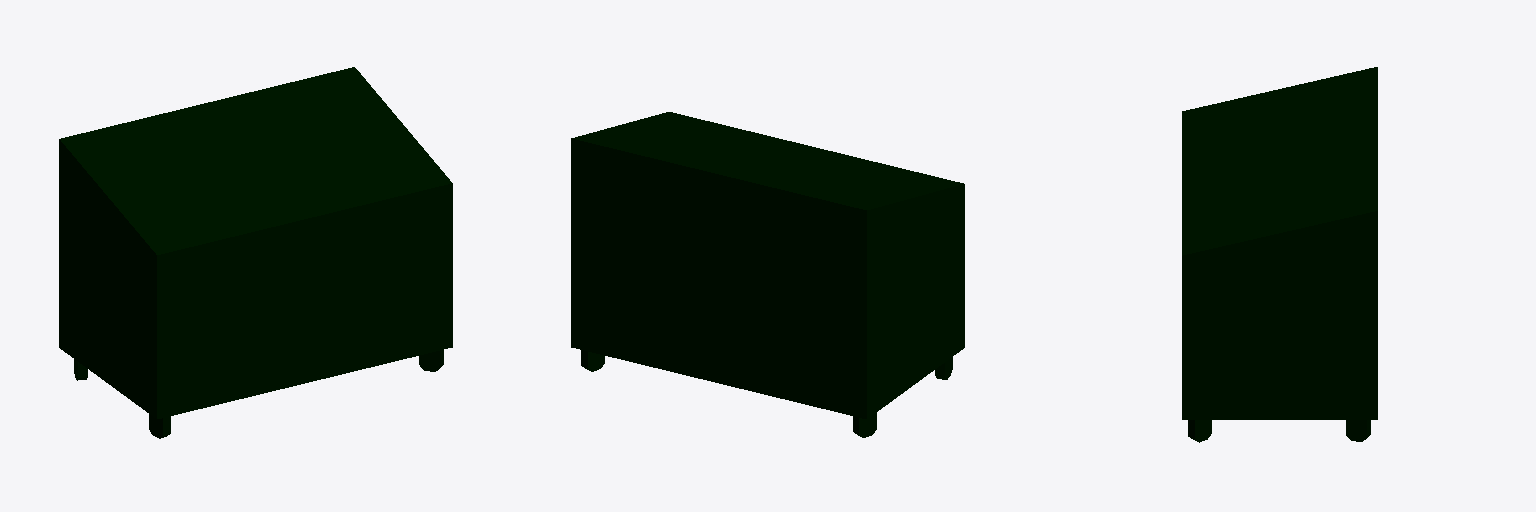
Rendered from container.obj.
The picture shows the model from 3 angles: view 1: azimuth 30°, elevation 25°; view 2: azimuth 150°, elevation 25°; view 3: azimuth 270°, elevation 25°; orthographic projection.
Visible parts, largest first — view 1: CONTAINER1; view 2: CONTAINER1; view 3: CONTAINER1.
Boxes of the visible parts, x1=… form: CONTAINER1: x1=59, y1=67, x2=452, y2=438; CONTAINER1: x1=571, y1=112, x2=964, y2=437; CONTAINER1: x1=1182, y1=67, x2=1377, y2=442.
Size of the model in its own units: 0.9421 by 0.7146 by 0.5401.